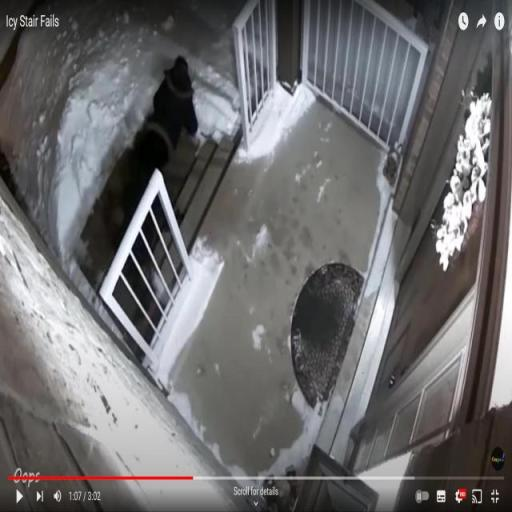Fall: (117, 53, 200, 230)
